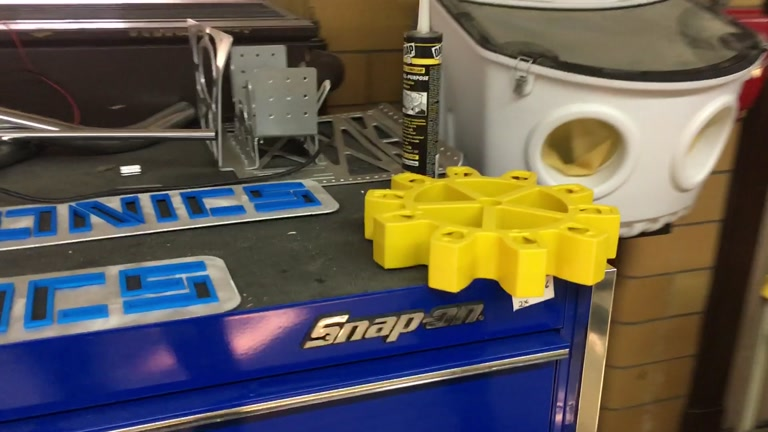gear: (363, 165, 622, 298)
